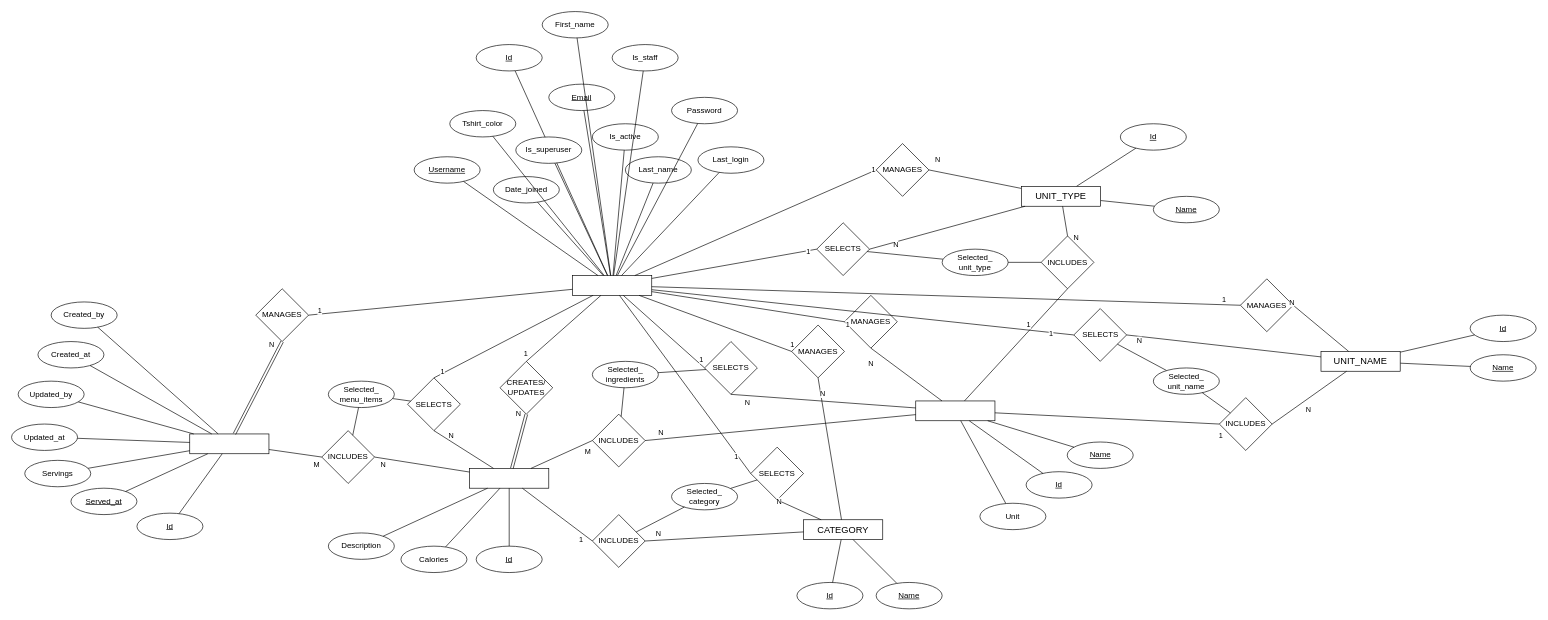
The diagram is 1548 pixels wide and 620 high, and some of its shapes have lost their labels. The box of each missing label's shape, as (x1, y1, x2, y2) in pixels:
DAILY_MENU: (189, 433, 269, 454)
INGREDIENT: (915, 400, 995, 421)
MENU_ITEM: (469, 468, 549, 488)
USER: (572, 275, 652, 295)
